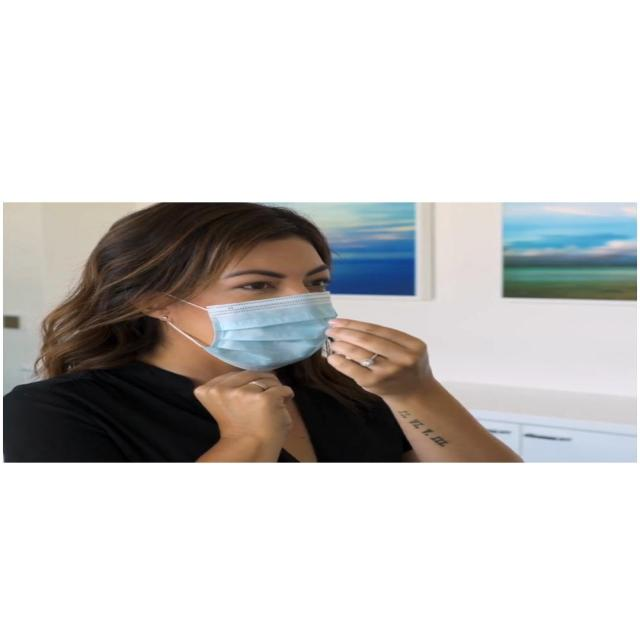Mask: (150, 231, 340, 374)
